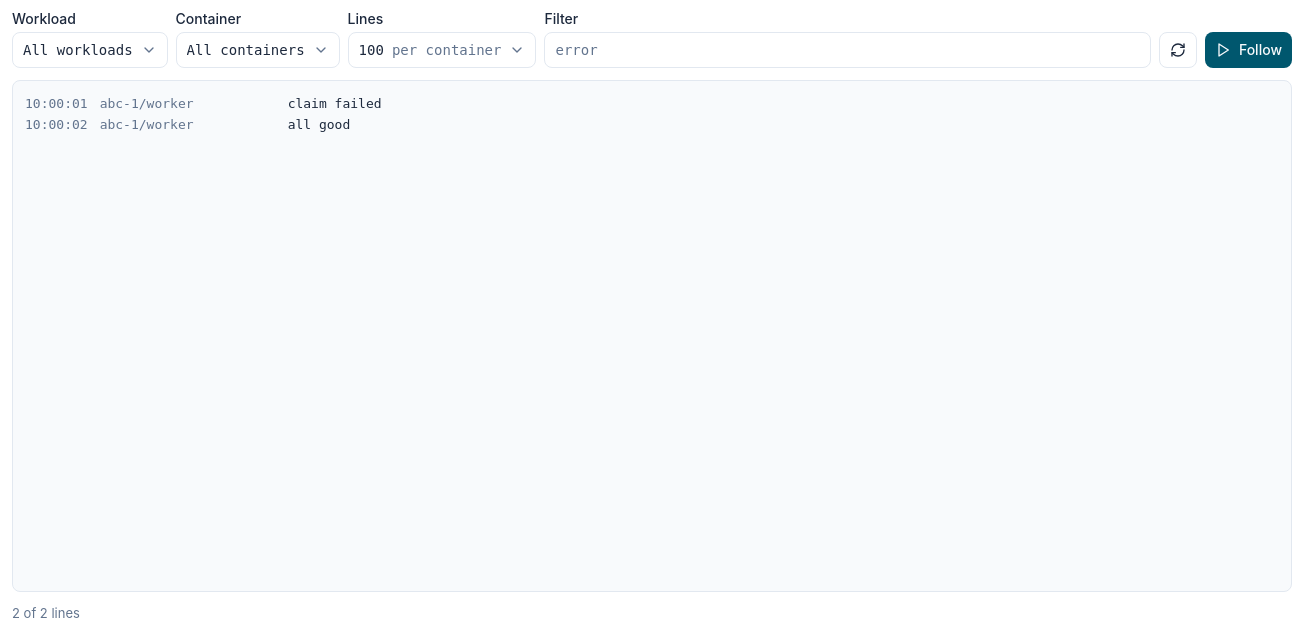
Test: LogViewer › filters lines without reading the logs again
Expected: the text "all good" is shown, [288,117,350,132]
Type "FAILED" into the field labelled "Filter".
click(848, 50); type("FAILED")  # box [544,32,1151,68]
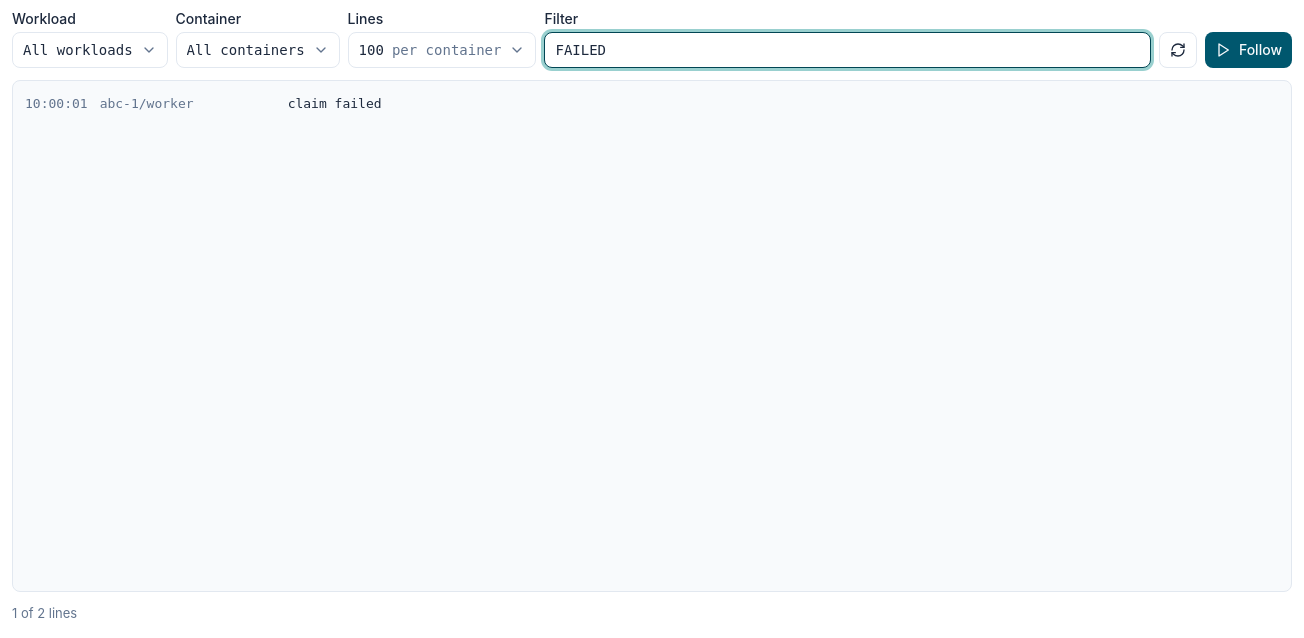
Expected: the text "claim failed" is shown, [288,96,382,111]
Expected: the text "all good" is gone
Expected: the text "1 of 2 lines" is shown, [12,605,77,621]
